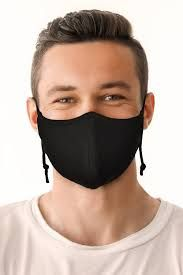with-mask: (25, 21, 160, 191)
